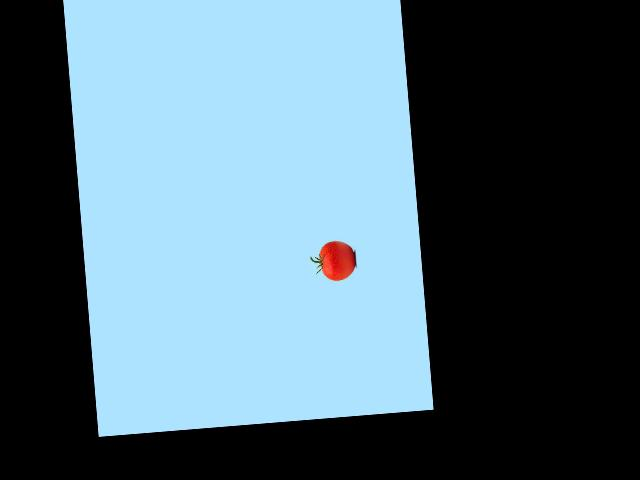tomato: (318, 239, 356, 282)
